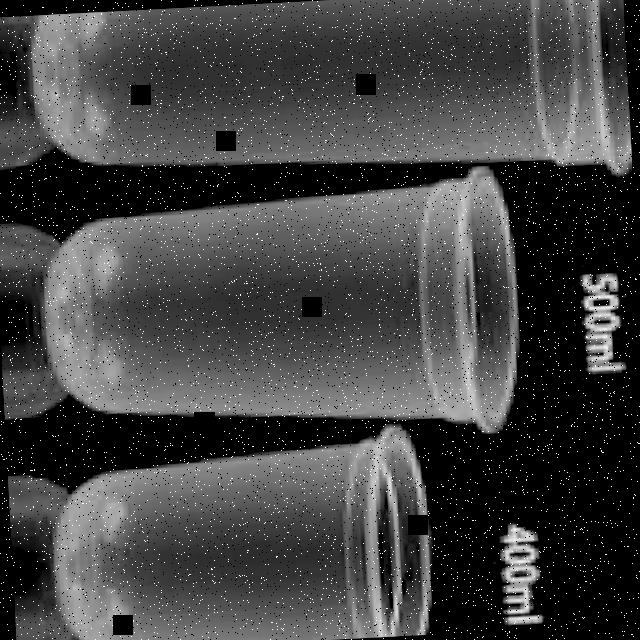plastic_box: (39, 162, 520, 458), (20, 0, 632, 201), (40, 428, 433, 640)
